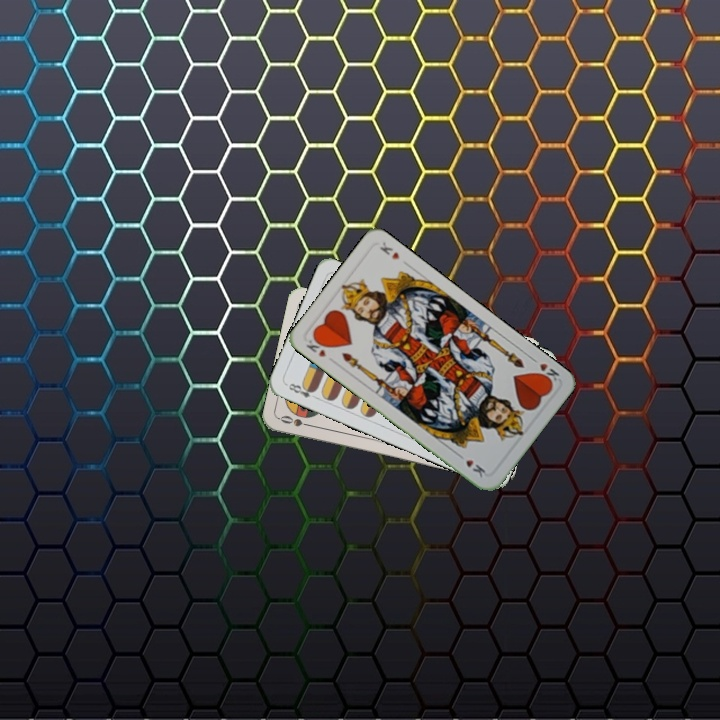E8: (283, 379, 321, 402)
HK: (527, 353, 562, 387), (302, 332, 331, 359)
SO: (276, 411, 316, 430)
